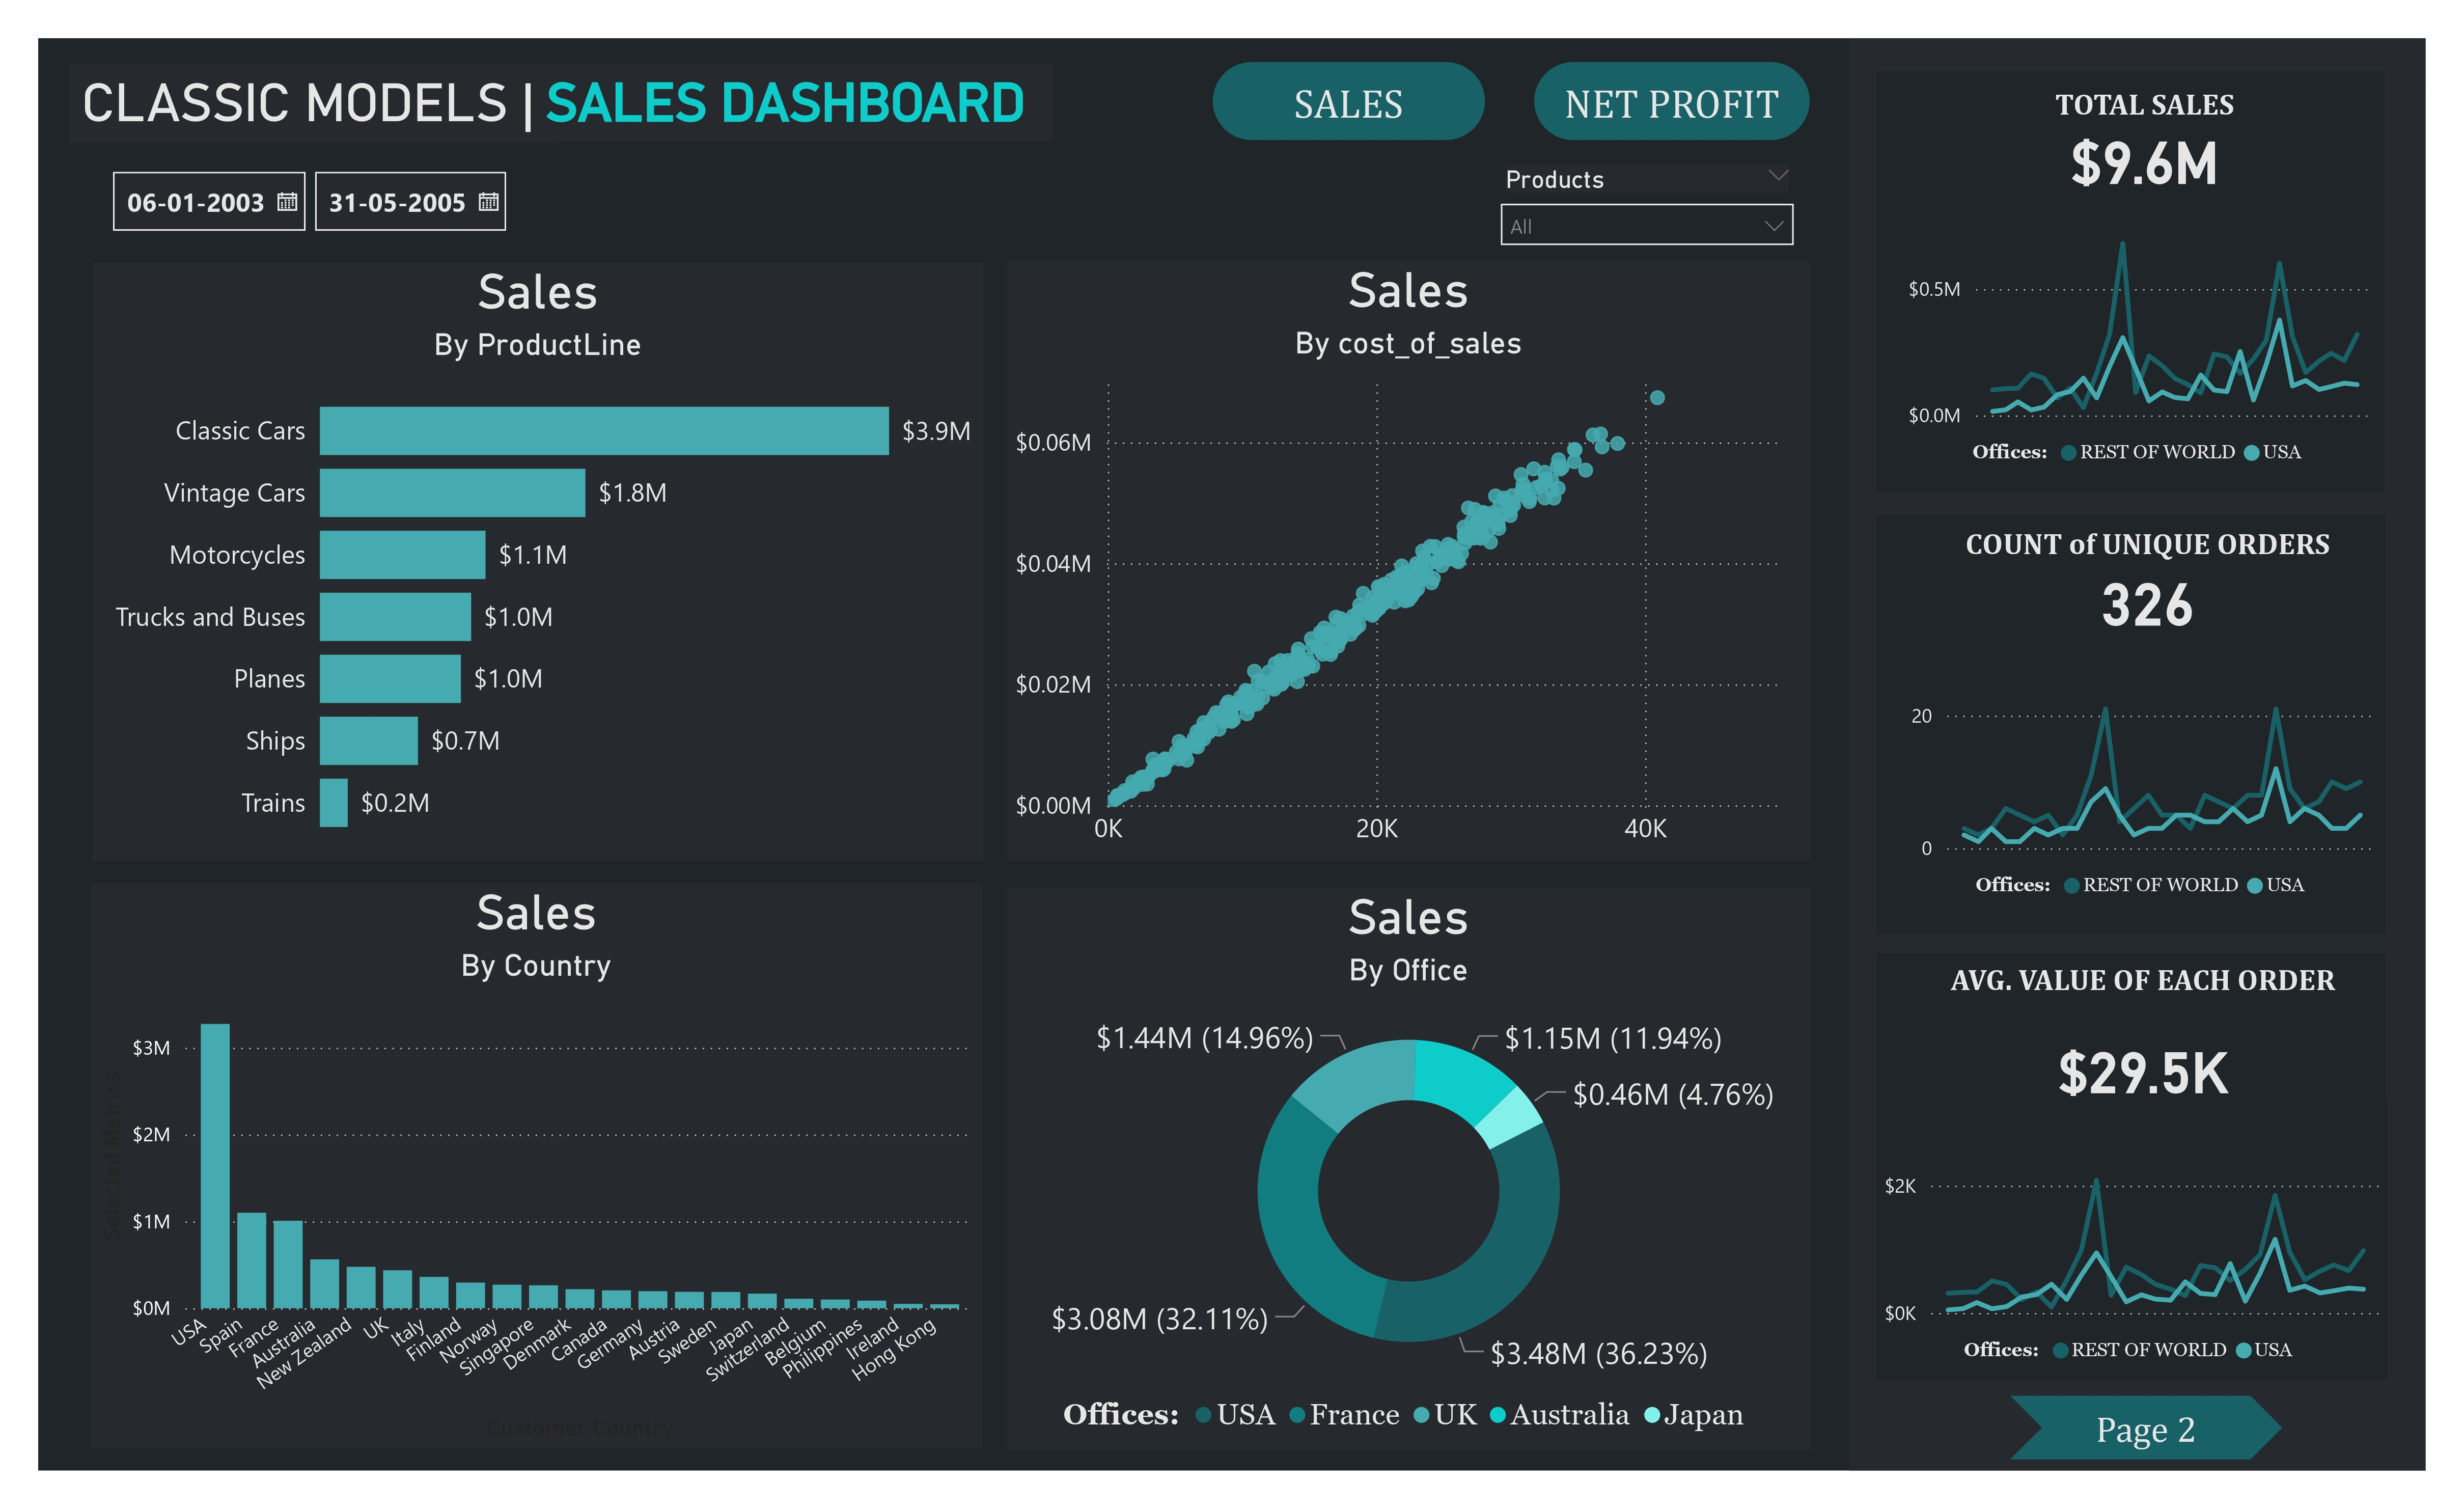

The dashboard page shown, as its layout file describes it:
{"tool":"powerbi","page":{"name":"Classic_Model Sales ","canvas":[1500,900],"ordinal":0},"visuals":[{"type":"shape","box":[1137.5,0,362.5,900],"z":0},{"type":"shape","box":[1155.3,21.3,319.1,263.8],"z":1000},{"type":"card","title":"TOTAL SALES","fields":{"Values":["classicmodels_sales.sales_value"]},"box":[1197.9,29.8,251.1,68.1],"z":2000},{"type":"lineChart","fields":{"Y":["classicmodels_sales.sales_value"],"Category":["classicmodels_sales.orderDate.Variation.Date Hierarchy.Year","classicmodels_sales.orderDate.Variation.Date Hierarchy.Quarter","classicmodels_sales.orderDate.Variation.Date Hierarchy.Month"],"Series":["classicmodels_sales.office_country (groups)"]},"box":[1170.2,95.7,302.1,183],"z":3000},{"type":"shape","box":[1155,300,320,262.5],"z":4000},{"type":"shape","box":[1155,575,320,267.5],"z":5000},{"type":"card","title":"COUNT of UNIQUE ORDERS","fields":{"Values":["classicmodels_sales.orderNumber"]},"box":[1197.9,306.4,255.3,70.2],"z":6000},{"type":"lineChart","fields":{"Category":["classicmodels_sales.orderDate.Variation.Date Hierarchy.Year","classicmodels_sales.orderDate.Variation.Date Hierarchy.Quarter","classicmodels_sales.orderDate.Variation.Date Hierarchy.Month"],"Series":["classicmodels_sales.office_country (groups)"],"Y":["classicmodels_sales.orderNumber"]},"box":[1172.3,370.2,302.1,180.9],"z":7000},{"type":"card","title":"AVG. VALUE OF EACH ORDER ","fields":{"Values":["classicmodels_sales.AVG. Sales value per order"]},"box":[1195,580,255,95],"z":8000},{"type":"lineChart","fields":{"Category":["classicmodels_sales.orderDate.Variation.Date Hierarchy.Year","classicmodels_sales.orderDate.Variation.Date Hierarchy.Quarter","classicmodels_sales.orderDate.Variation.Date Hierarchy.Month"],"Series":["classicmodels_sales.office_country (groups)"],"Y":["classicmodels_sales.AVG. Sales value per order"]},"box":[1155.3,667,320.2,175.5],"z":9000},{"type":"clusteredBarChart","fields":{"Y":["Table.Selected Metrics"],"Category":["classicmodels_sales.productLine"]},"box":[34.3,141.4,560,375.7],"z":10000},{"type":"actionButton","box":[940.4,14.9,172.3,48.9],"z":11000},{"type":"actionButton","box":[738.3,14.9,170.2,48.9],"z":12000},{"type":"scatterChart","fields":{"Category":["classicmodels_sales.orderNumber"],"Y":["Table.Selected Metrics"],"X":["classicmodels_sales.cost_of_sales"]},"box":[608.5,140.4,504.3,376.6],"z":14000},{"type":"donutChart","fields":{"Category":["classicmodels_sales.office_country"],"Y":["Table.Selected Metrics"]},"box":[608.5,534,504.3,353.2],"z":15000},{"type":"columnChart","fields":{"Category":["classicmodels_sales.customer_country"],"Y":["Table.Selected Metrics"]},"box":[32.9,531.4,560,354.3],"z":16000},{"type":"actionButton","box":[1238.6,853.4,171.6,39.8],"z":17000},{"type":"textbox","box":[20,15.7,307.1,50],"z":18000,"group":"g1"},{"type":"slicer","fields":{"Values":["classicmodels_sales.orderDate"]},"box":[34,74.5,270.2,51.1],"z":18000},{"type":"textbox","box":[314.3,15.9,323.8,49.2],"z":19000,"group":"g1"},{"type":"slicer","fields":{"Values":["classicmodels_sales.productName"]},"box":[908.5,74.5,204.3,59.6],"z":19000},{"type":"group","id":"g1","title":"Group 1","box":[20,15.7,618.1,50],"z":19001}]}

Visuals, with their boxes on the page's 1500x900 design canvas (x1, y1, x2, y2). These are canvas units, not pixel positions in the 2464x1509 screenshot, which may show the page scaled, cropped or inside an application window:
shape: 1138, 0, 1500, 900
shape: 1155, 21, 1474, 285
"TOTAL SALES" card: 1198, 30, 1449, 98
lineChart - classicmodels_sales.sales_value x classicmodels_sales.orderDate.Variation.Date Hierarchy.Year: 1170, 96, 1472, 279
shape: 1155, 300, 1475, 562
shape: 1155, 575, 1475, 842
"COUNT of UNIQUE ORDERS" card: 1198, 306, 1453, 377
lineChart - classicmodels_sales.orderDate.Variation.Date Hierarchy.Year x classicmodels_sales.orderDate.Variation.Date Hierarchy.Quarter: 1172, 370, 1474, 551
"AVG. VALUE OF EACH ORDER " card: 1195, 580, 1450, 675
lineChart - classicmodels_sales.orderDate.Variation.Date Hierarchy.Year x classicmodels_sales.orderDate.Variation.Date Hierarchy.Quarter: 1155, 667, 1476, 842
clusteredBarChart - Table.Selected Metrics x classicmodels_sales.productLine: 34, 141, 594, 517
actionButton: 940, 15, 1113, 64
actionButton: 738, 15, 908, 64
scatterChart - classicmodels_sales.orderNumber x Table.Selected Metrics: 608, 140, 1113, 517
donutChart - classicmodels_sales.office_country x Table.Selected Metrics: 608, 534, 1113, 887
columnChart - classicmodels_sales.customer_country x Table.Selected Metrics: 33, 531, 593, 886
actionButton: 1239, 853, 1410, 893
textbox: 20, 16, 327, 66
slicer - classicmodels_sales.orderDate: 34, 74, 304, 126
textbox: 314, 16, 638, 65
slicer - classicmodels_sales.productName: 908, 74, 1113, 134
"Group 1" group: 20, 16, 638, 66
